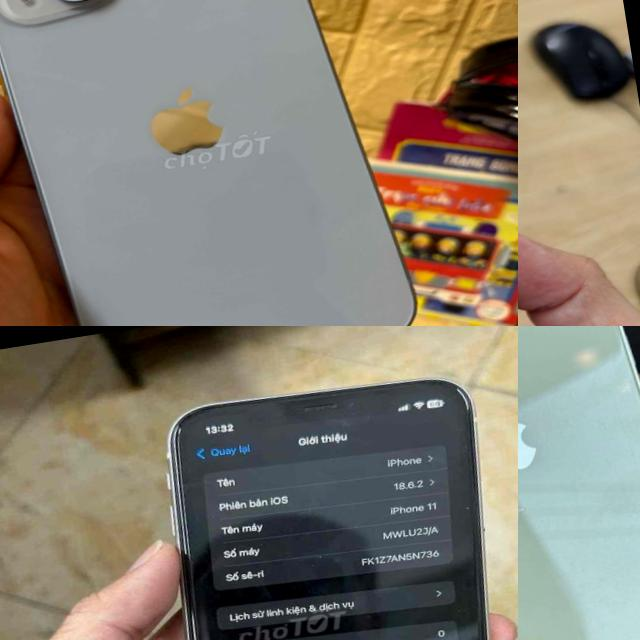gen_11: (131, 337, 518, 640)
gen_12_13: (518, 326, 640, 640)
gen_14: (0, 0, 443, 326)
